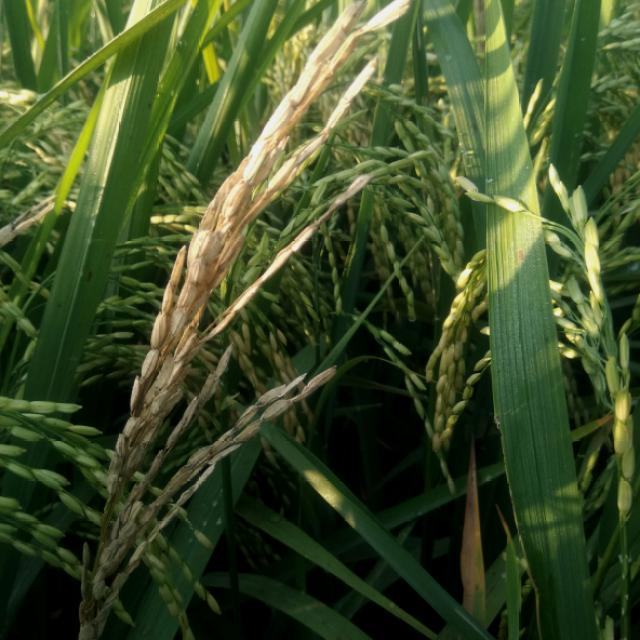Brown spot: (461, 420, 486, 640)
insects: (143, 98, 155, 115), (86, 266, 94, 288)
